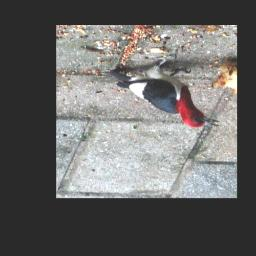Woodpecker: (102, 50, 224, 132)
